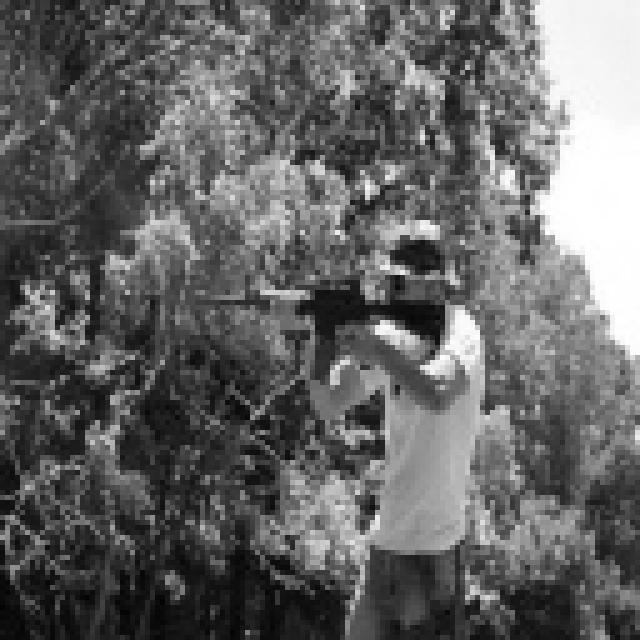Rifle: (188, 254, 484, 421)
